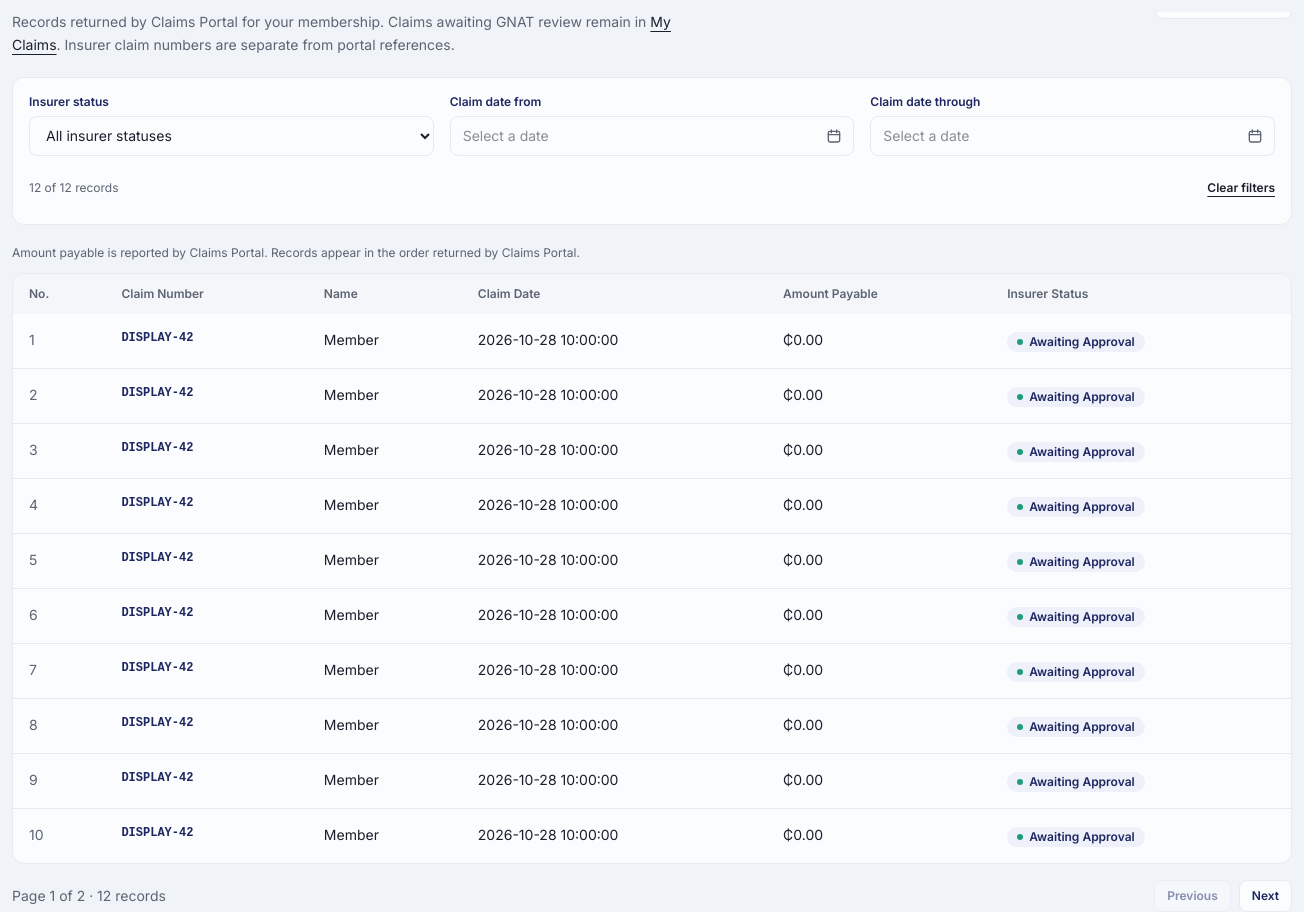
Test: preserves rows and pagination after a failed refresh, then accepts a successful empty result
This screenshot has width=1304, height=912.
(page scrolled)
What coordinates should you click on to do the following:
click the button "Next"
I would click on:
 (1265, 896)
Its box is x1=1239 y1=880 x2=1292 y2=911.
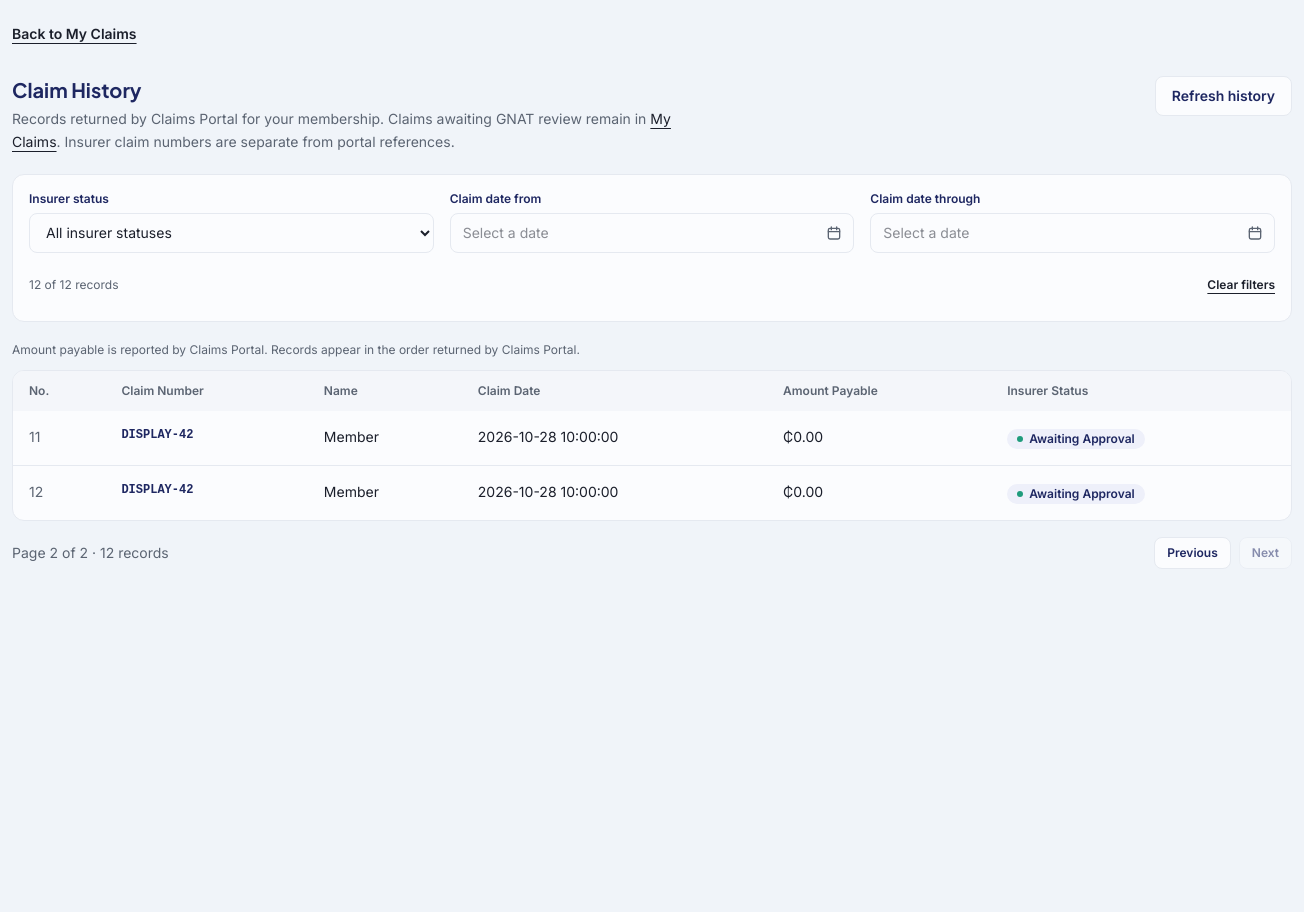
What coordinates should you click on to do the following:
click the button "Refresh history"
I would click on:
 (1223, 96)
Its box is x1=1155 y1=76 x2=1292 y2=116.
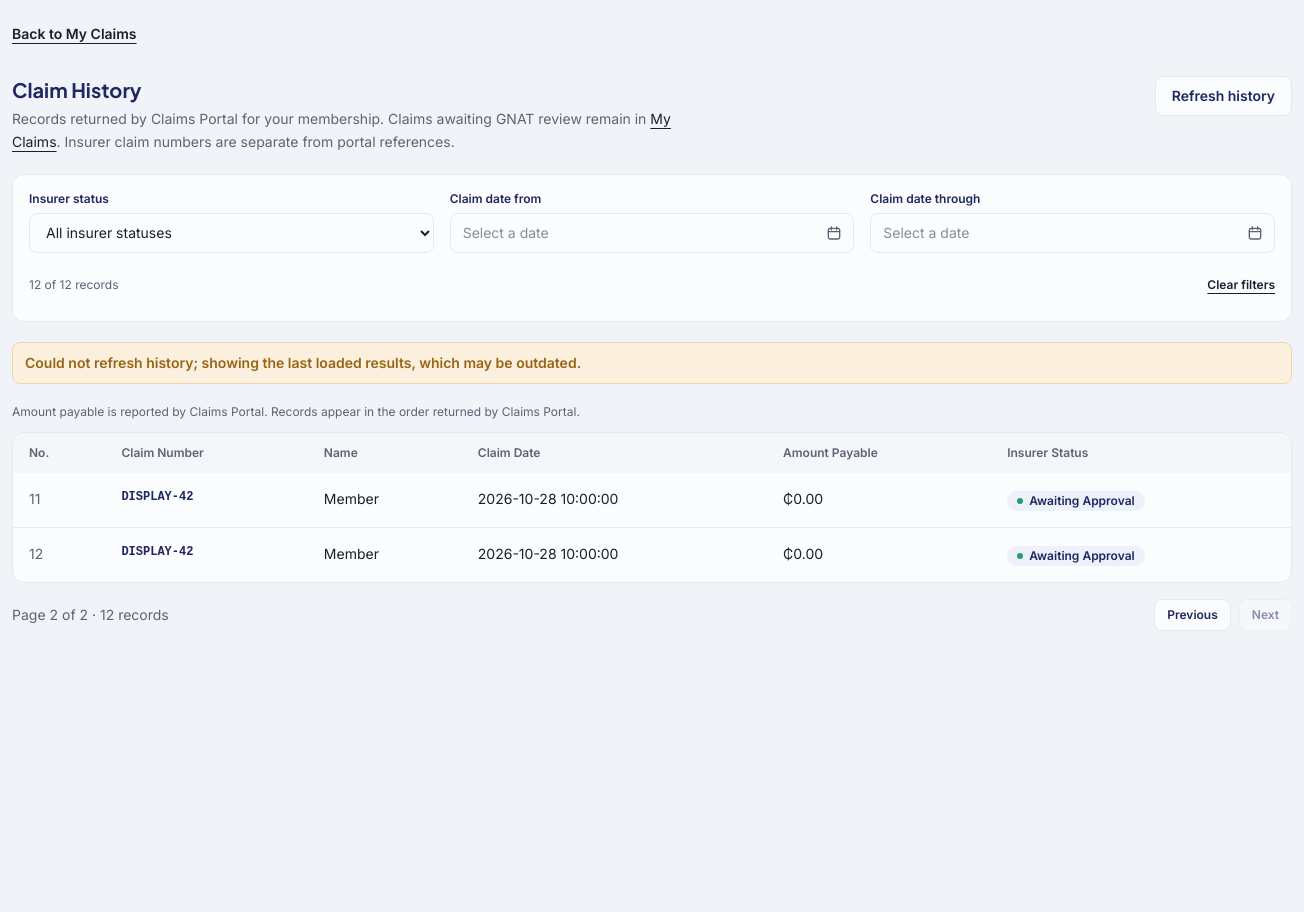
Now the text "Page 2 of 2 · 12 records" is shown, box x1=12 y1=604 x2=169 y2=624
Now the number of column headings "DISPLAY-42" is 2, box x1=105 y1=472 x2=308 y2=527; x1=105 y1=527 x2=308 y2=582
Now the text "last loaded results, which may be outdated" is shown, box x1=25 y1=354 x2=581 y2=370
What coordinates should you click on to do the following:
click the button "Refresh history"
I would click on:
 (1223, 96)
Its box is x1=1155 y1=76 x2=1292 y2=116.
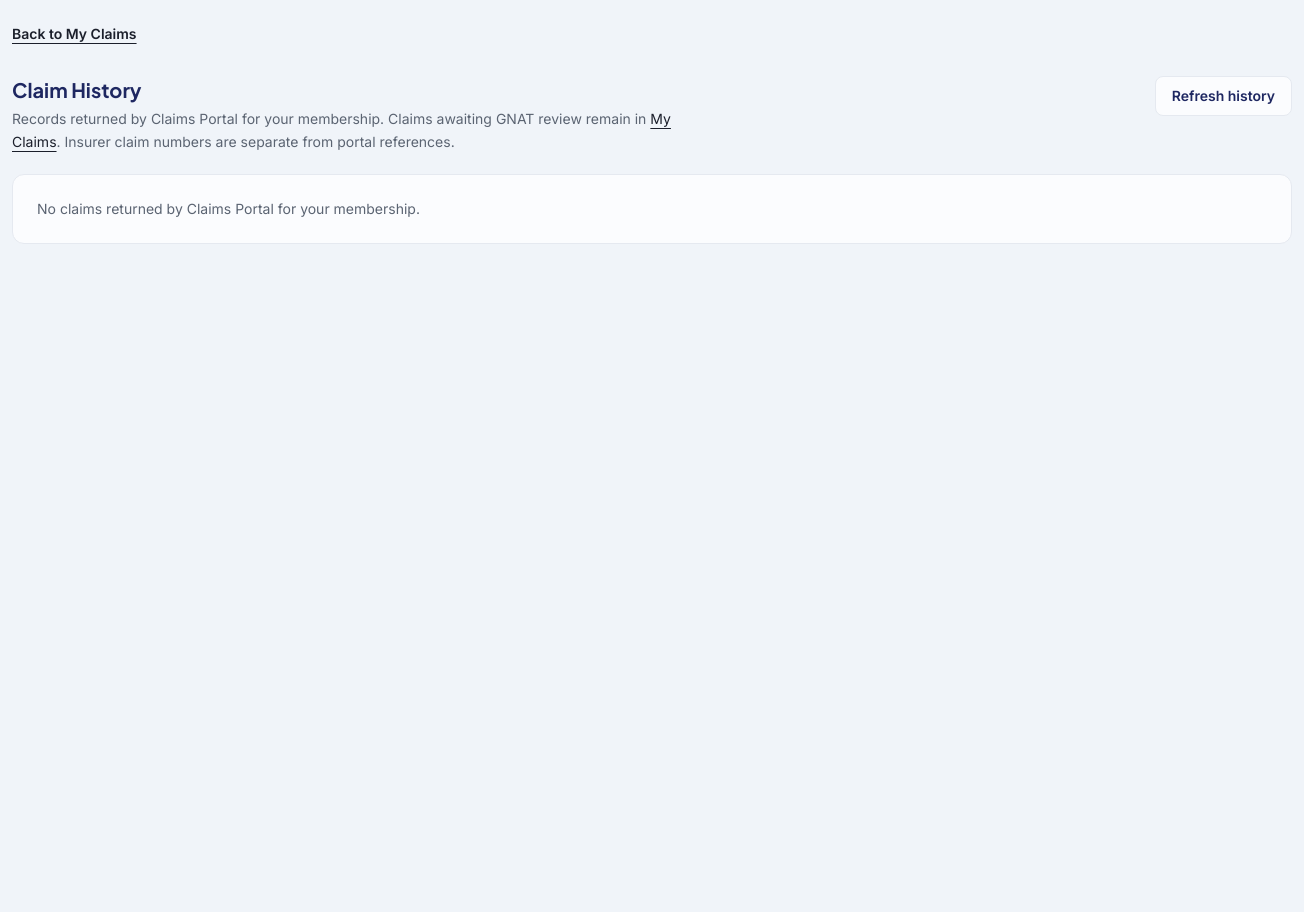
Now the text "No claims returned by Claims Portal for your membership." is shown, box x1=12 y1=174 x2=1292 y2=244
Now the text "outdated" is gone
Now the table is gone
